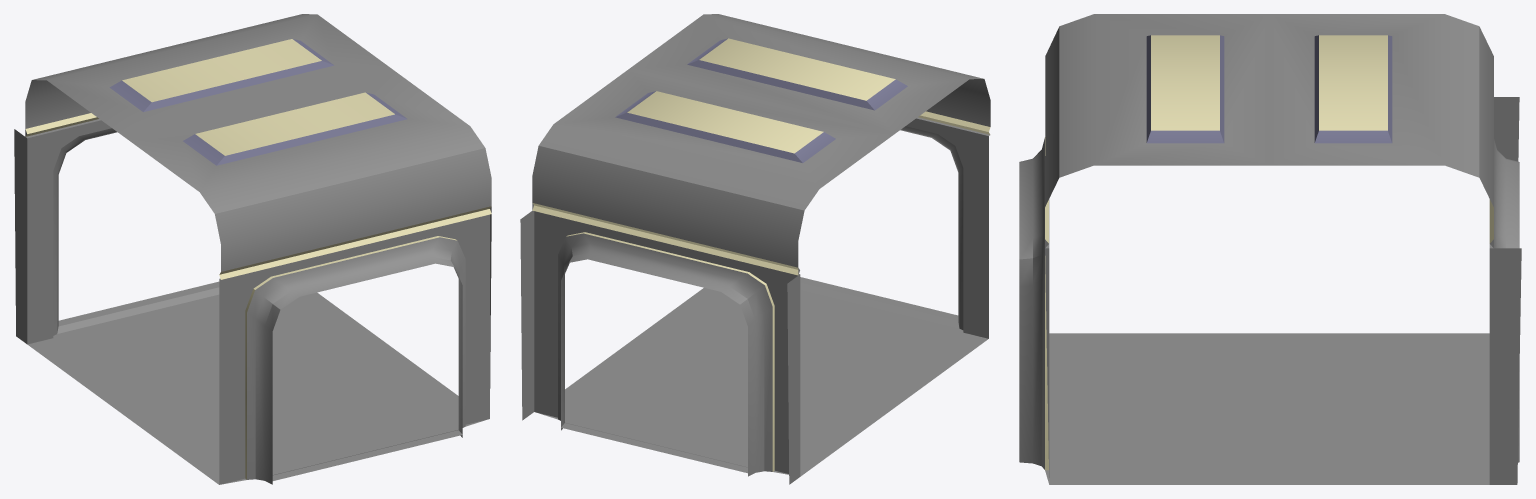
Rendered from Cor4.fbx.
3 renders of one model, left to right at view 1: azimuth 30°, elevation 25°; view 2: azimuth 150°, elevation 25°; view 3: azimuth 270°, elevation 25°, orthographic. The views are drawn at different scales.
Parts seen in each view (by area): view 1: Cube.006; view 2: Cube.006; view 3: Cube.006.
Boxes of the visible parts, x1,y1,x2,y2 form: Cube.006: [14, 14, 491, 484]; Cube.006: [520, 14, 990, 484]; Cube.006: [1019, 14, 1521, 484].
Bounding box in the file's own units: 305 × 306 × 428.
